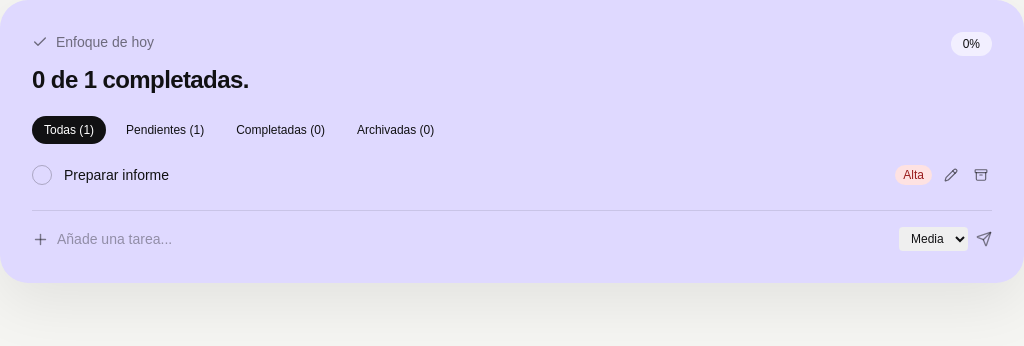
Scenario: TasksWidget › shows an empty state for a filter with no matching tasks
The image size is (1024, 346).
Click the tab "Archivadas (0)": (396,130) [345,116,446,144]
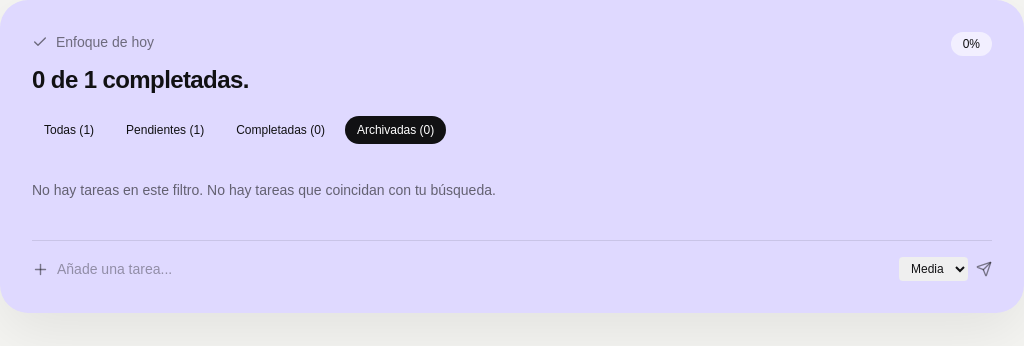
Expected: the message shows "No hay tareas en este filtro.", [32,182,496,198]
